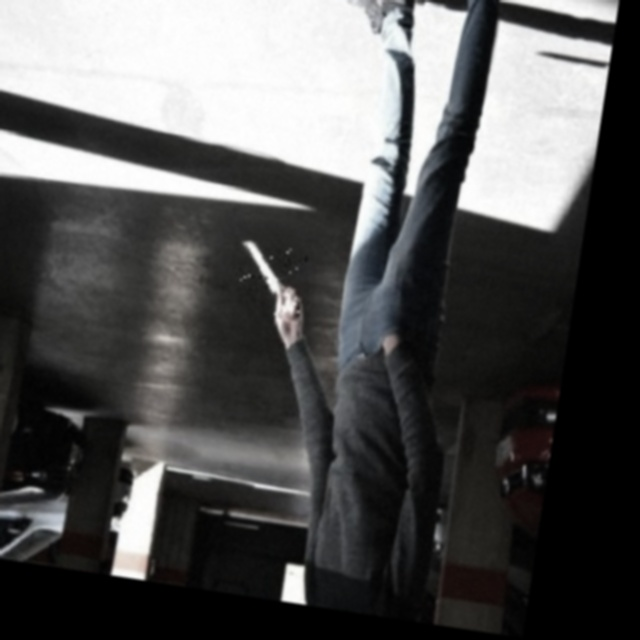Sharp-Object: (231, 240, 308, 320)
